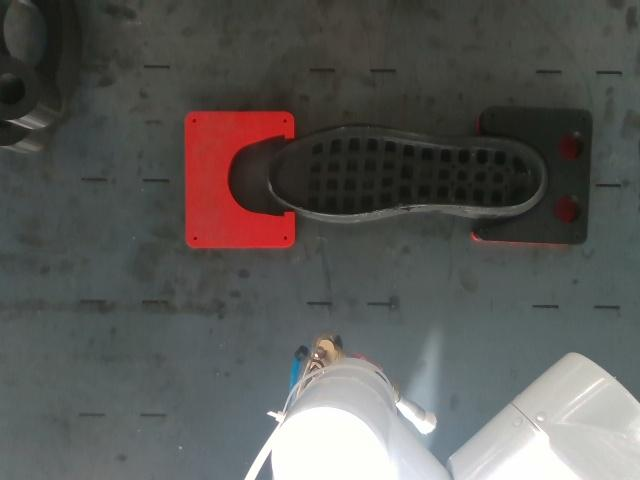shoes: (269, 128, 542, 215)
